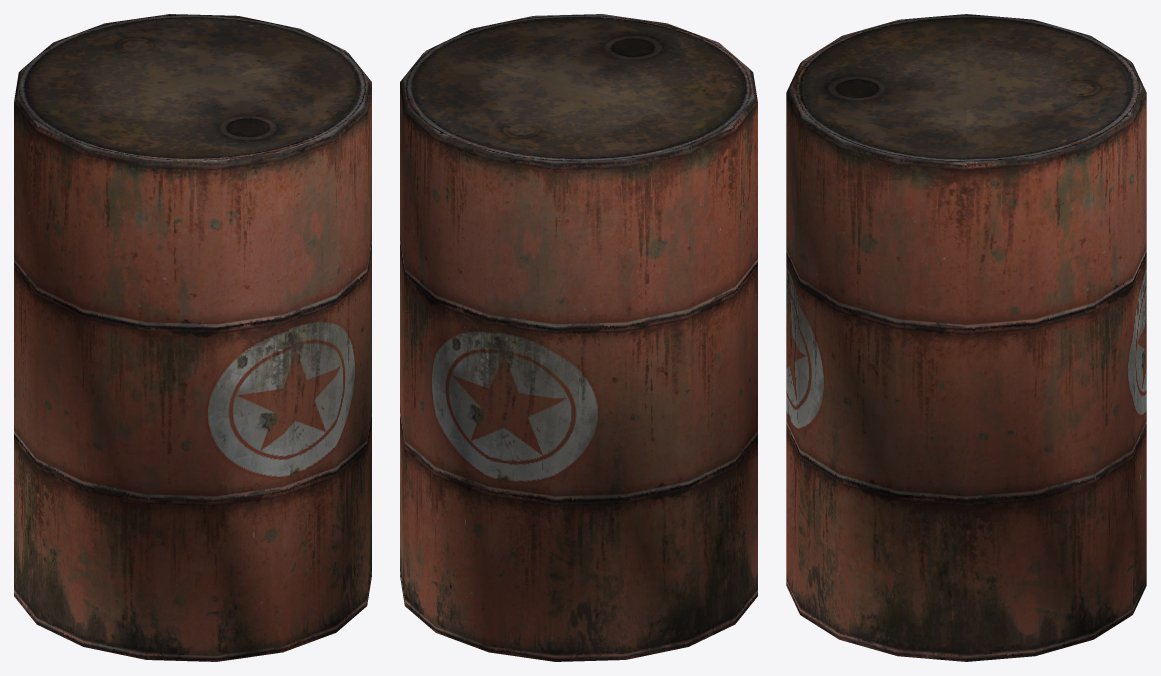
Rendered from barrel.obj.
3 views of the same model, side by side, from view 1: azimuth 30°, elevation 25°; view 2: azimuth 150°, elevation 25°; view 3: azimuth 270°, elevation 25° (orthographic).
Bounding box in the file's own units: 1.43 × 2.18 × 1.43.
